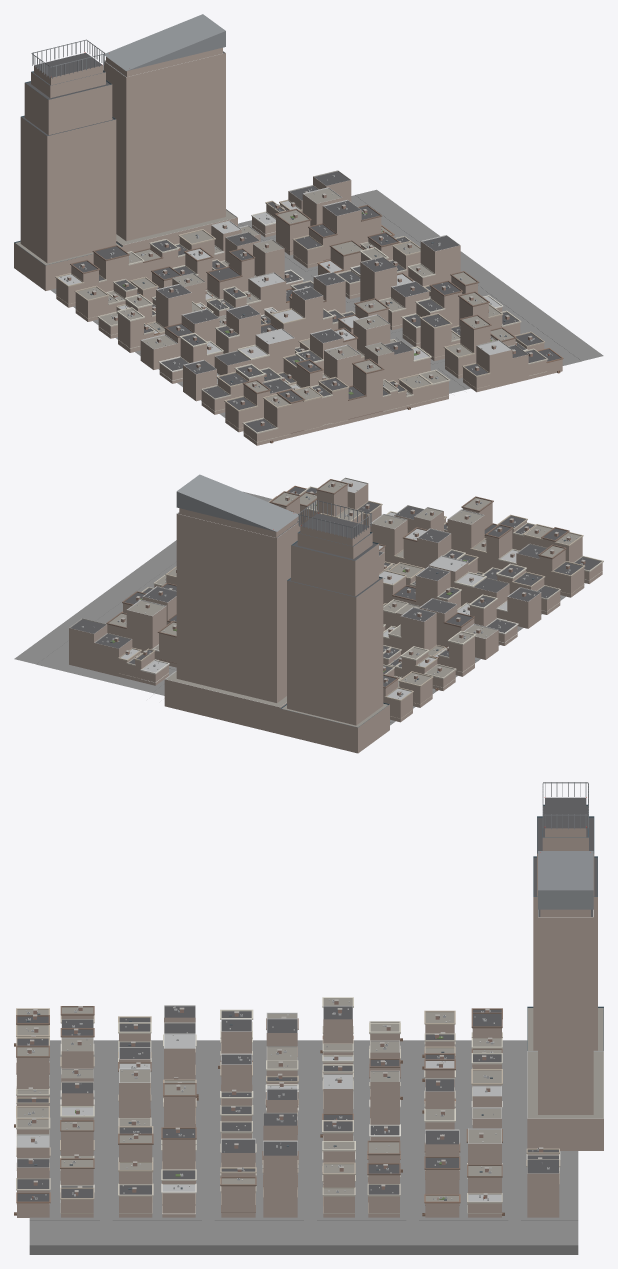
The picture shows the model from 3 angles, top to bottom: view 1: azimuth 30°, elevation 25°; view 2: azimuth 150°, elevation 25°; view 3: azimuth 270°, elevation 25°; orthographic projection. The views are drawn at different scales.
Visible parts, largest first — view 1: t35_facade, t35_roof, t35_detail, t35_ground; view 2: t35_facade, t35_roof, t35_detail, t35_ground; view 3: t35_ground, t35_facade, t35_roof, t35_detail.
Boxes of the visible parts, x1=… form: t35_facade: x1=14, y1=47, x2=562, y2=445; t35_roof: x1=16, y1=14, x2=561, y2=432; t35_detail: x1=14, y1=51, x2=563, y2=443; t35_ground: x1=50, y1=189, x2=603, y2=431; t35_facade: x1=69, y1=483, x2=602, y2=753; t35_roof: x1=70, y1=474, x2=600, y2=727; t35_detail: x1=69, y1=477, x2=603, y2=727; t35_ground: x1=14, y1=491, x2=565, y2=725; t35_ground: x1=29, y1=1040, x2=578, y2=1254; t35_facade: x1=17, y1=828, x2=603, y2=1217; t35_roof: x1=17, y1=782, x2=603, y2=1201; t35_detail: x1=14, y1=804, x2=603, y2=1216.
Size of the model in its own units: 386 by 235 by 462.
